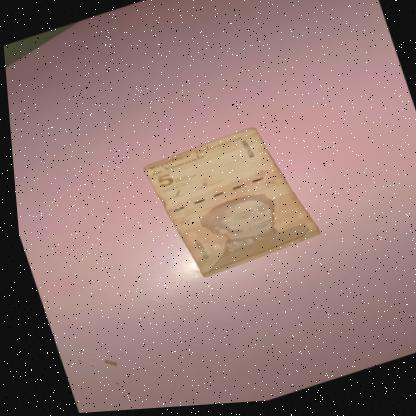five-front-vef: (137, 120, 321, 288)
